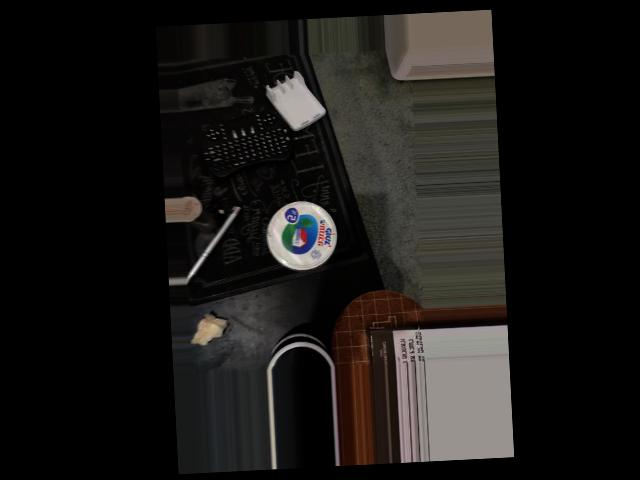cotage: (263, 195, 352, 275)
